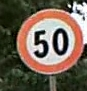limite 50: (14, 8, 84, 74)
